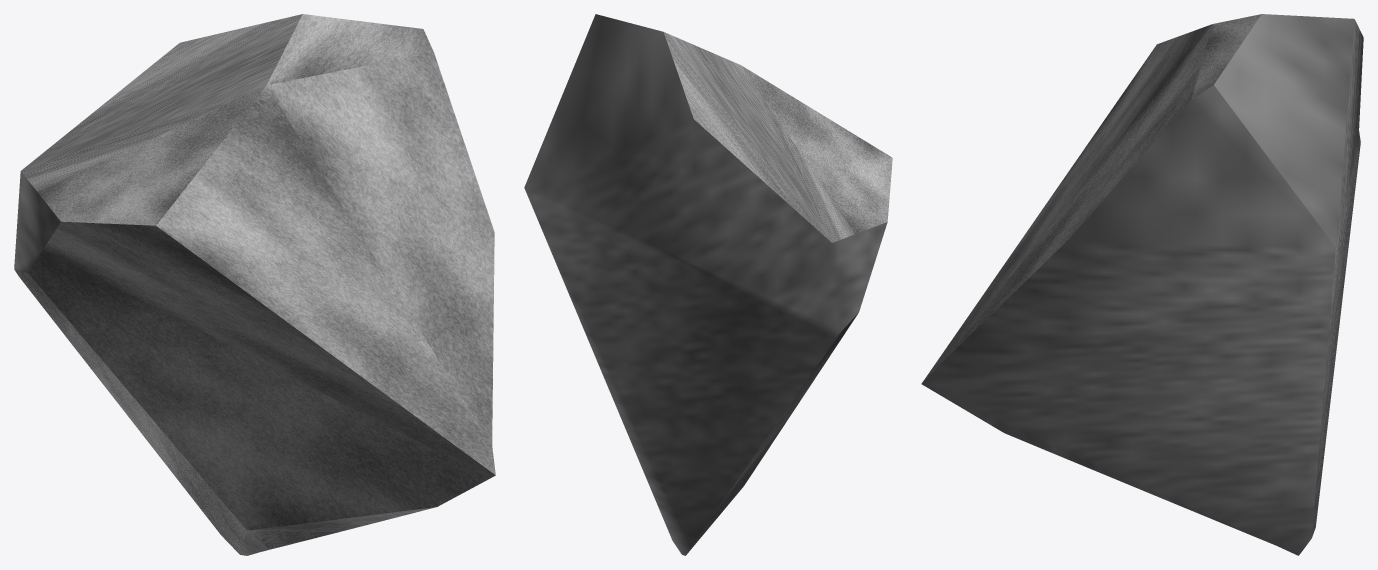
Rendered from leg_3_cell_002.fbx.
3 views of the same model, side by side, from view 1: azimuth 30°, elevation 25°; view 2: azimuth 150°, elevation 25°; view 3: azimuth 270°, elevation 25° (orthographic). The views are drawn at different scales.
Visible parts, largest first — view 1: leg_3_cell.002; view 2: leg_3_cell.002; view 3: leg_3_cell.002.
Part boxes in pixels (x1=…): leg_3_cell.002: x1=14, y1=14, x2=495, y2=555; leg_3_cell.002: x1=524, y1=14, x2=892, y2=555; leg_3_cell.002: x1=921, y1=14, x2=1363, y2=555.
Size of the model in its own units: 28.92 by 42.03 by 30.05.
